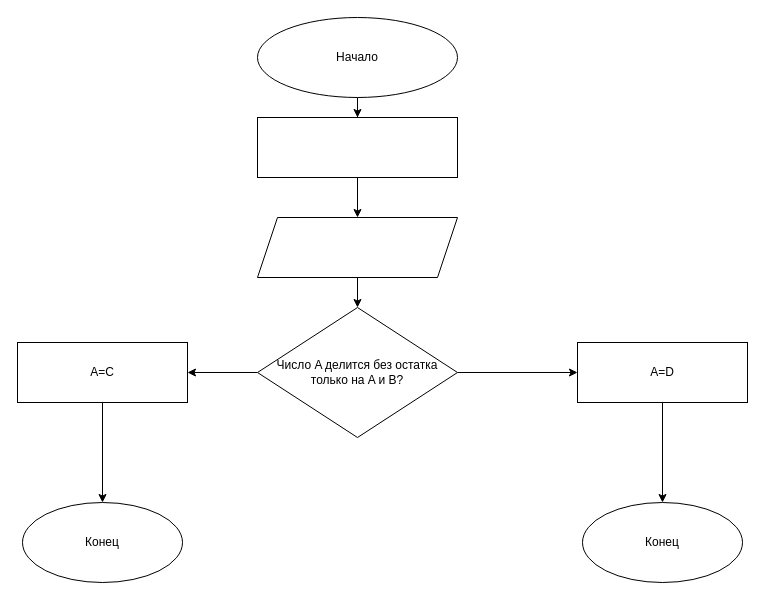
The diagram is 765 pixels wide and 600 high, and some of its shapes have lost their labels. The shapes that lost their labels are listed below. From the top down, each one's centre as x and y in pixels, then its label:
pixel 357 147: B=1; C=Простое D=Составное
pixel 357 247: Введите A
